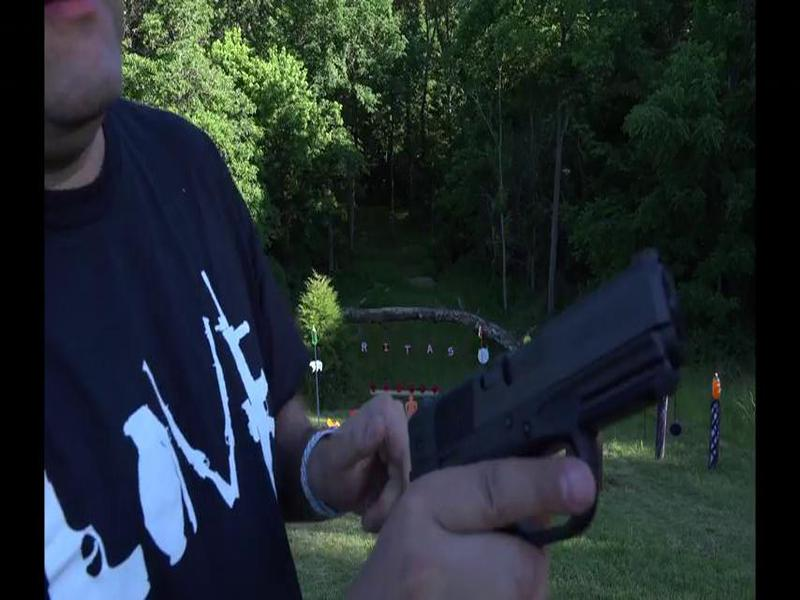Pistola: (389, 242, 698, 553)
